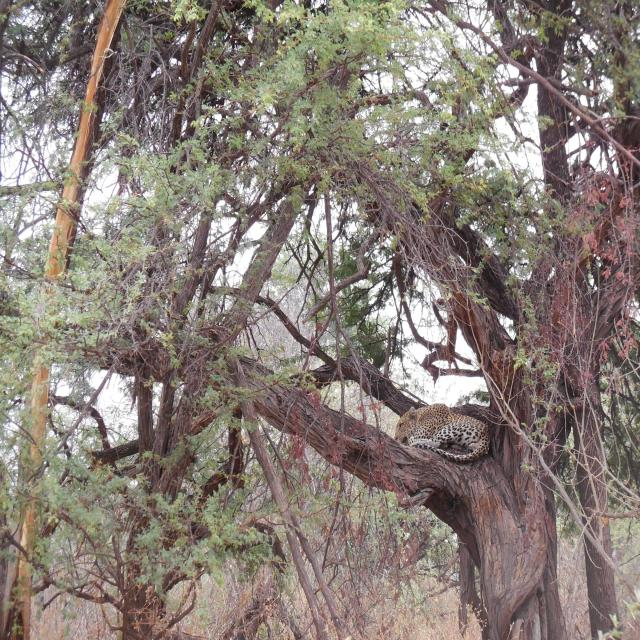Leopard: (392, 405, 499, 469)
